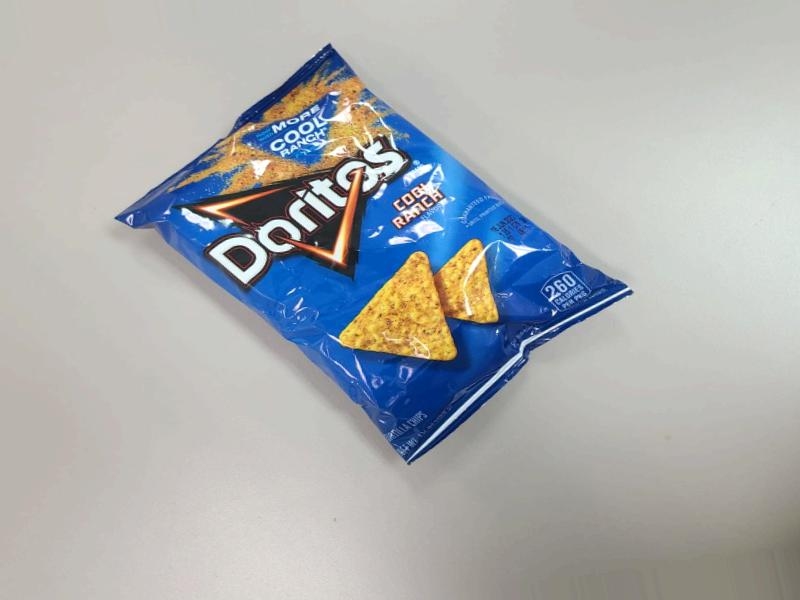doritos: (132, 62, 635, 433)
